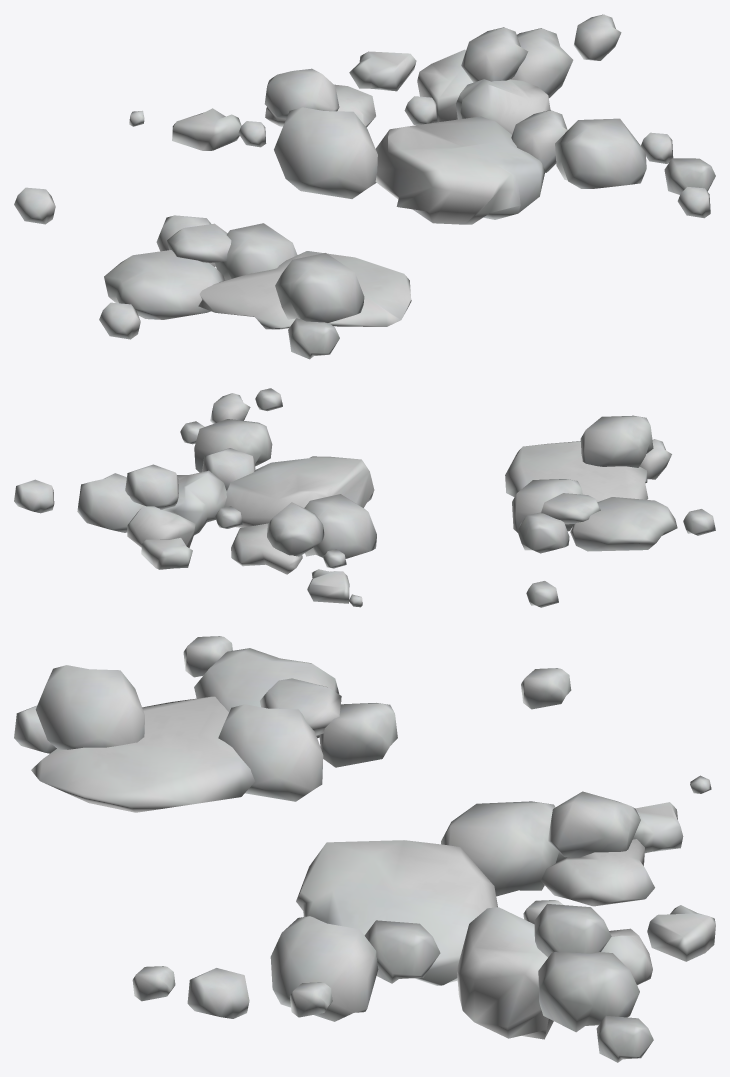
Rendered from snowballs_a.glb.
3 views of the same model, one above another, from view 1: azimuth 30°, elevation 25°; view 2: azimuth 150°, elevation 25°; view 3: azimuth 270°, elevation 25° (orthographic). The views are drawn at different scales.
Parts seen in each view (by area): view 1: snowballs_a_LOD0; view 2: snowballs_a_LOD0; view 3: snowballs_a_LOD0.
Part boxes in pixels (box(x1,y1,x2,y2)): snowballs_a_LOD0: box(14, 14, 715, 359); snowballs_a_LOD0: box(14, 388, 715, 607); snowballs_a_LOD0: box(14, 636, 715, 1062).
Size of the model in its own units: 5.02 by 0.7963 by 3.68.
Materials: 1 (1 with a texture image).
